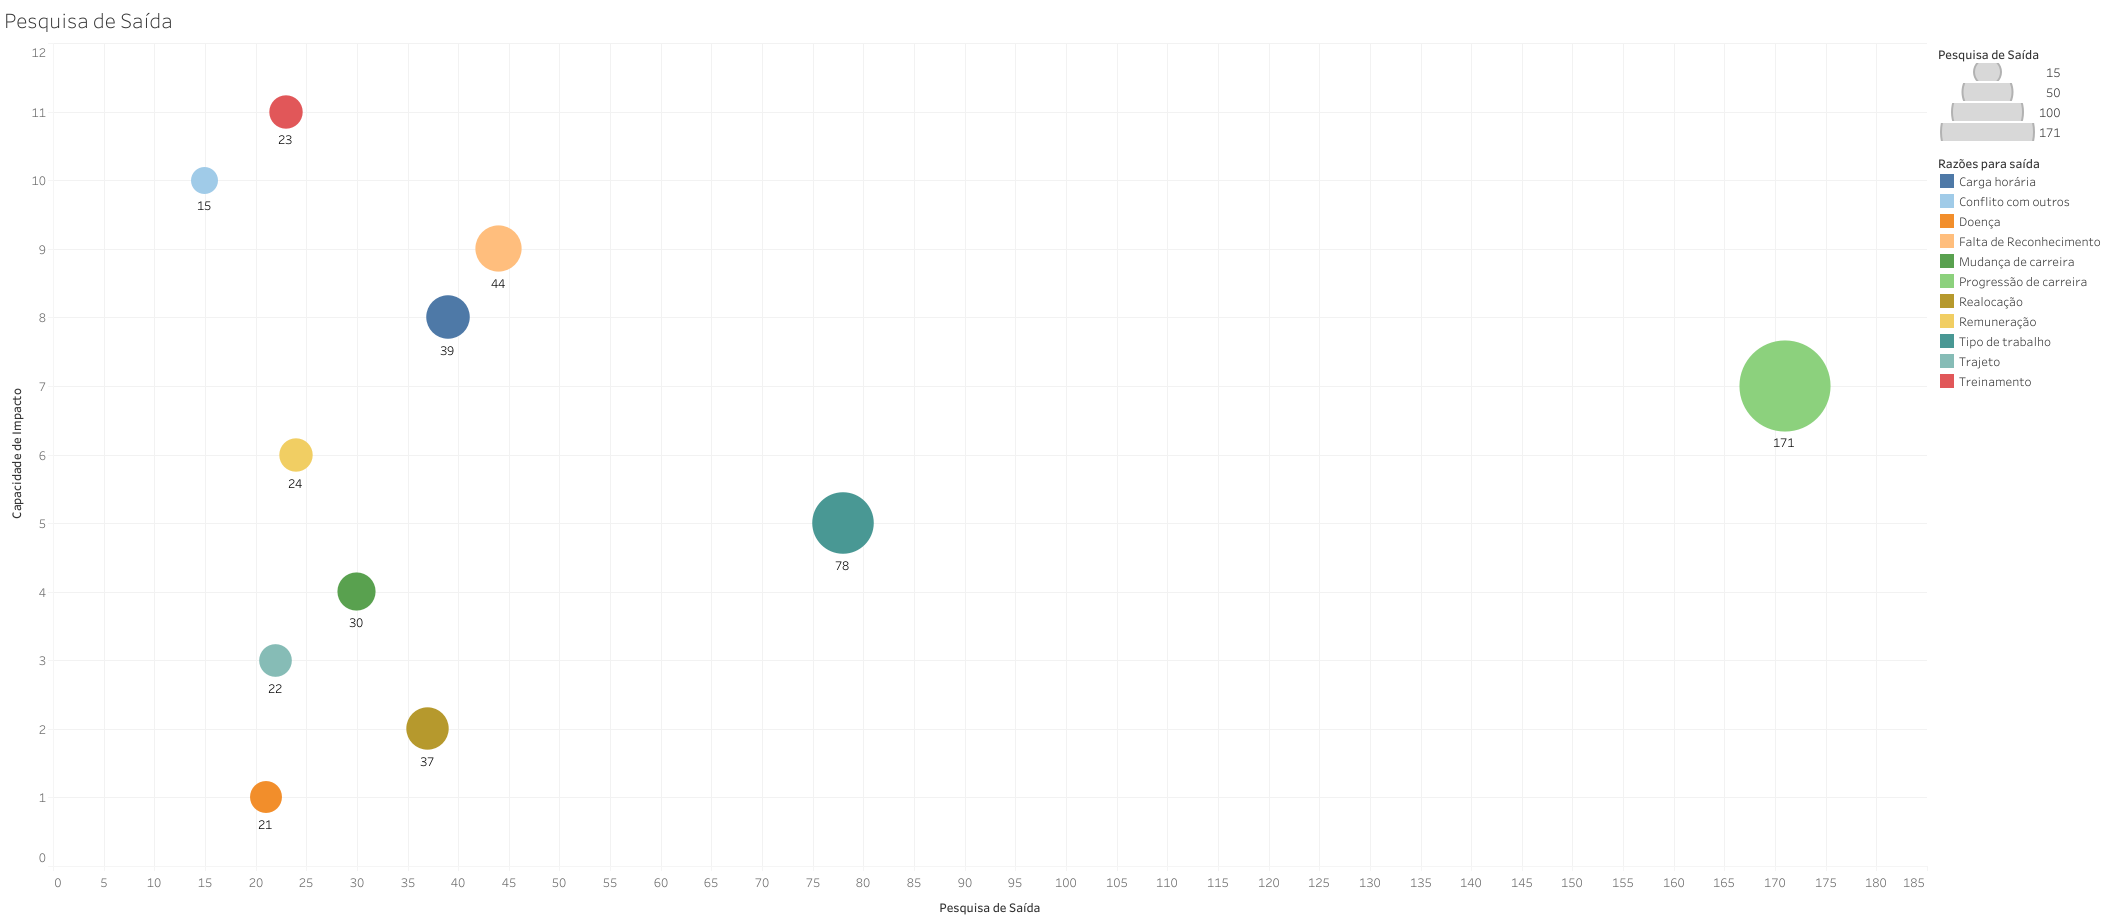

What the dashboard file says about the page in this screenshot:
{"tool":"tableau","page":{"name":"Painel 2","canvas":[1000,800],"ordinal":1},"visuals":[{"type":"worksheet","title":"Pesquisa de Saída","mark":"Automatic","rows":["Capacidade de Impacto"],"cols":["Pesquisa de Saída"],"box":[8,8,984,484]},{"type":"text","box":[8,492,742,300]},{"type":"legend","title":"Pesquisa de Saída","param":"[federated.05tfhy30yq1mx81fdck2e0lxcqmv].[sum:Pesquisa de Saída:qk]","box":[750,492,242,107]},{"type":"legend","title":"Pesquisa de Saída","param":"[federated.05tfhy30yq1mx81fdck2e0lxcqmv].[none:Razões para saída:nk]","box":[750,599,242,193]}]}

Visuals, with their boxes on the page's 1000x800 design canvas (x1, y1, x2, y2). These are canvas units, not pixel positions in the 2105x923 screenshot, which may show the page scaled, cropped or inside an application window:
"Pesquisa de Saída" worksheet: region(8, 8, 992, 492)
text: region(8, 492, 750, 792)
"Pesquisa de Saída" legend: region(750, 492, 992, 599)
"Pesquisa de Saída" legend: region(750, 599, 992, 792)
